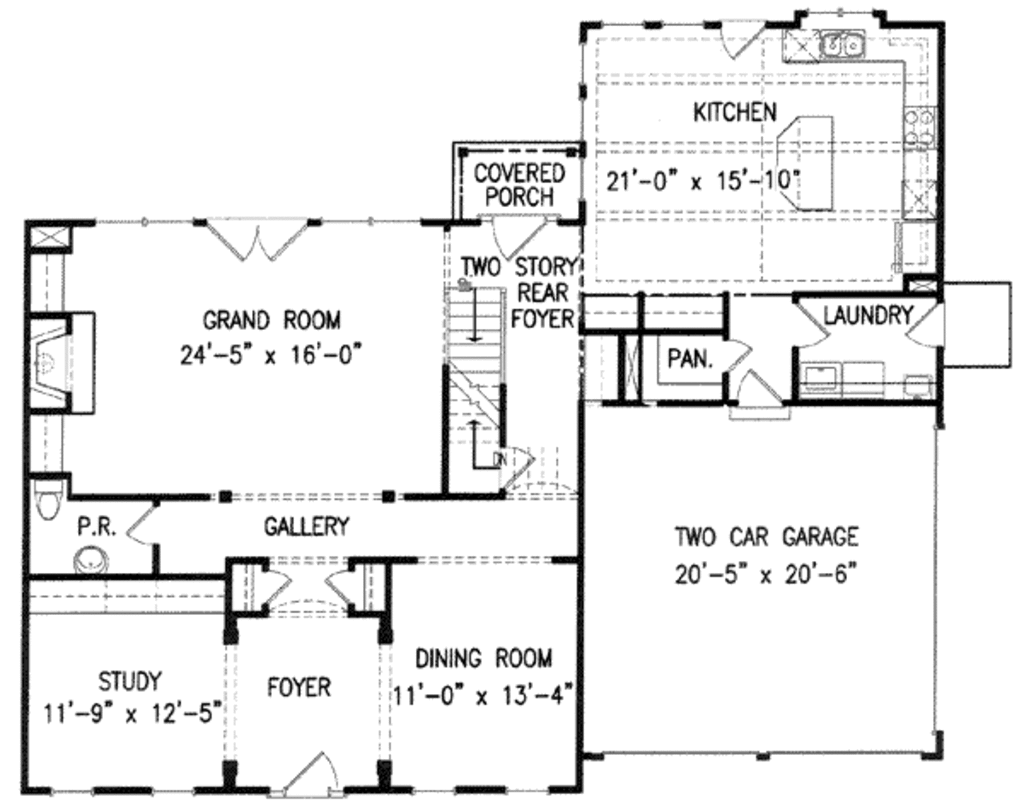door: (207, 216, 310, 261), (278, 747, 340, 798), (483, 215, 550, 262), (788, 300, 837, 350), (904, 300, 947, 349), (120, 502, 162, 549), (732, 371, 782, 409), (720, 19, 767, 59), (260, 565, 296, 614), (720, 335, 755, 382), (320, 565, 352, 610)
kitchen_bar: (771, 112, 836, 217)
large_sink: (32, 476, 66, 527)
small_sink: (66, 537, 115, 581)
stairs: (442, 279, 511, 497)
twin_sink: (814, 28, 869, 66)
